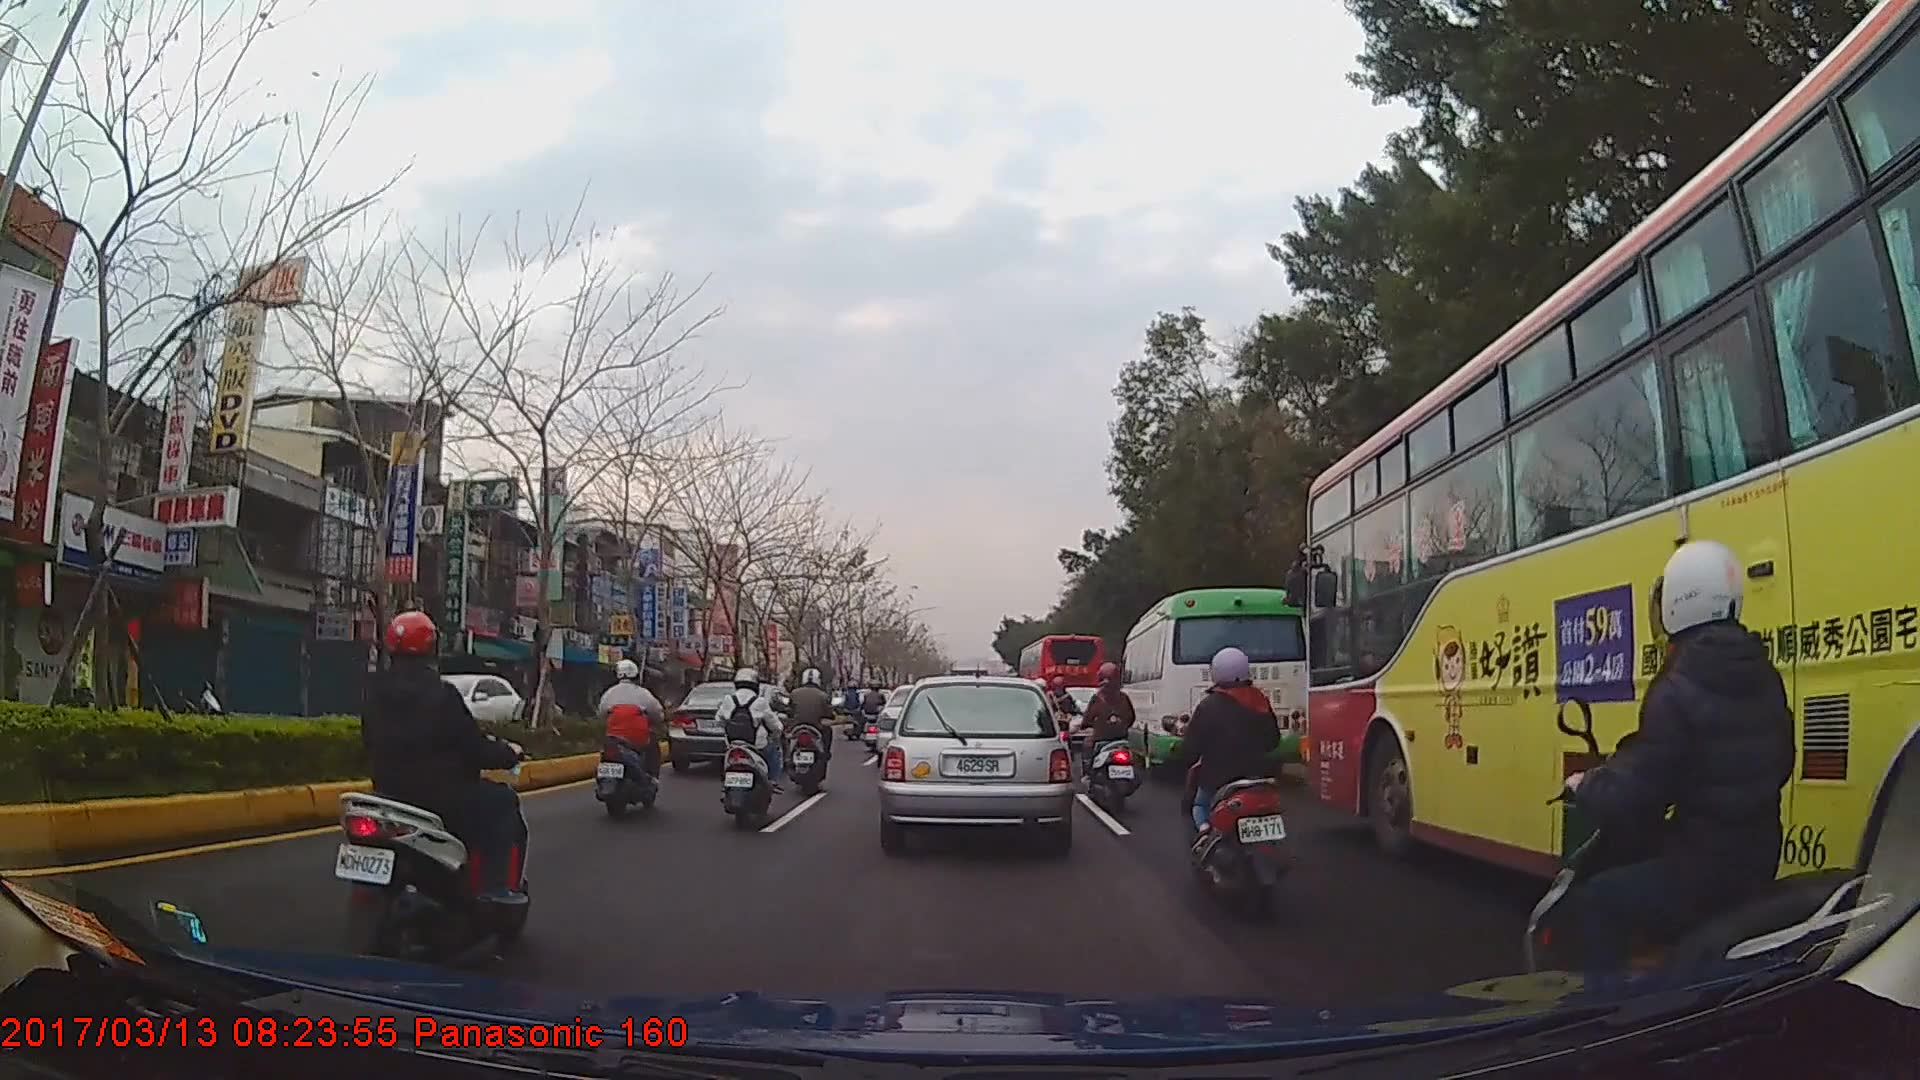rider: (1525, 537, 1885, 1029), (330, 606, 524, 979), (1178, 643, 1299, 923), (599, 657, 668, 817), (718, 666, 786, 826), (1081, 665, 1141, 801), (784, 667, 841, 796), (861, 681, 889, 753), (843, 681, 864, 723)
vehicle: (1304, 0, 1920, 1000), (1115, 584, 1311, 774), (878, 672, 1072, 848), (361, 665, 535, 761), (667, 680, 802, 779), (1016, 630, 1105, 740)
